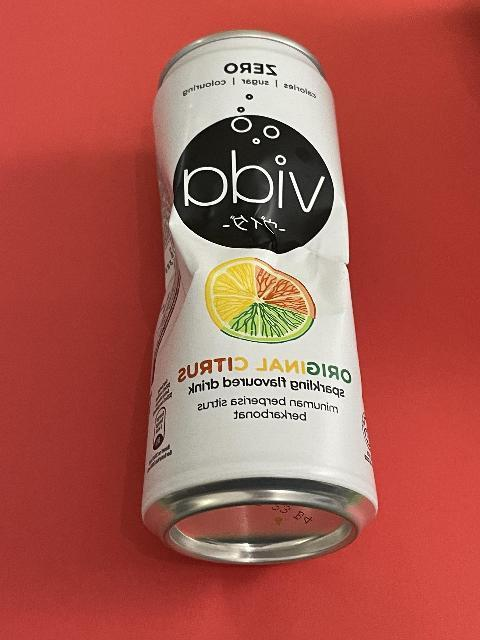drinkcan: (140, 26, 380, 566)
